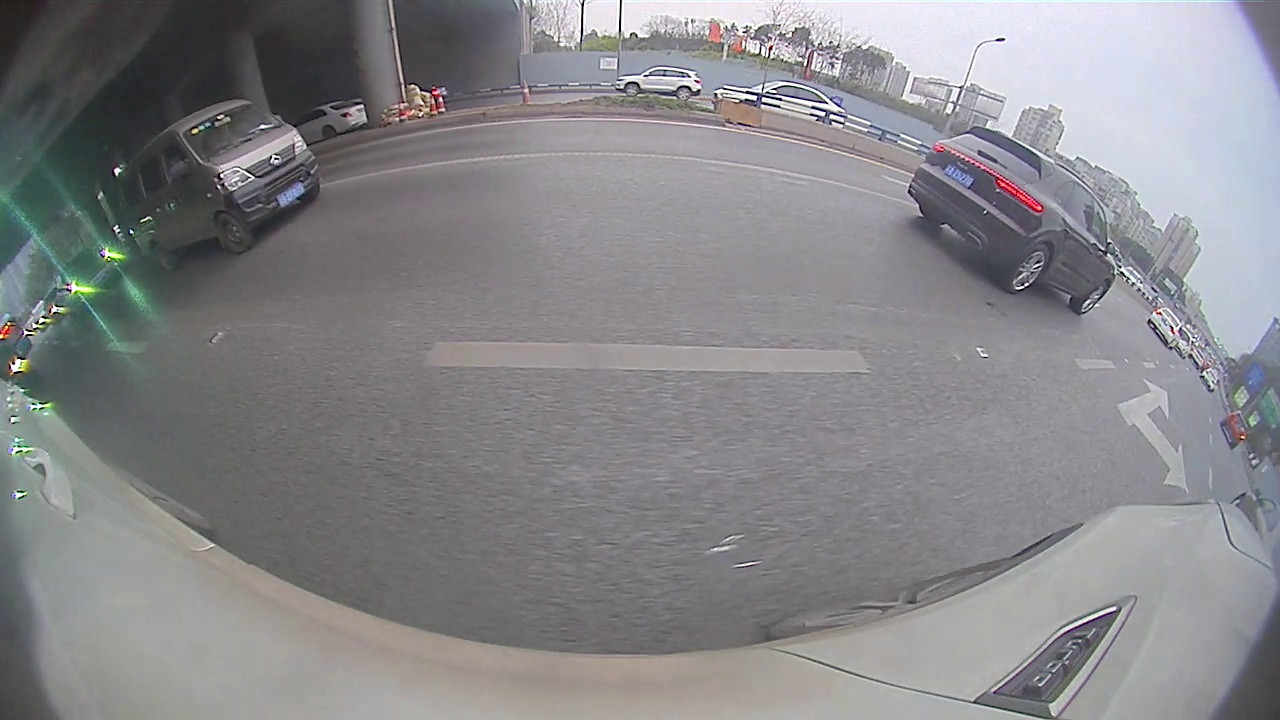car: (906, 125, 1119, 314), (116, 101, 323, 273), (615, 64, 707, 102), (1147, 306, 1182, 349)
front: (214, 212, 252, 256), (1076, 284, 1107, 315), (625, 83, 640, 96)
rear: (1000, 242, 1053, 293), (150, 241, 178, 272), (676, 85, 693, 100)
